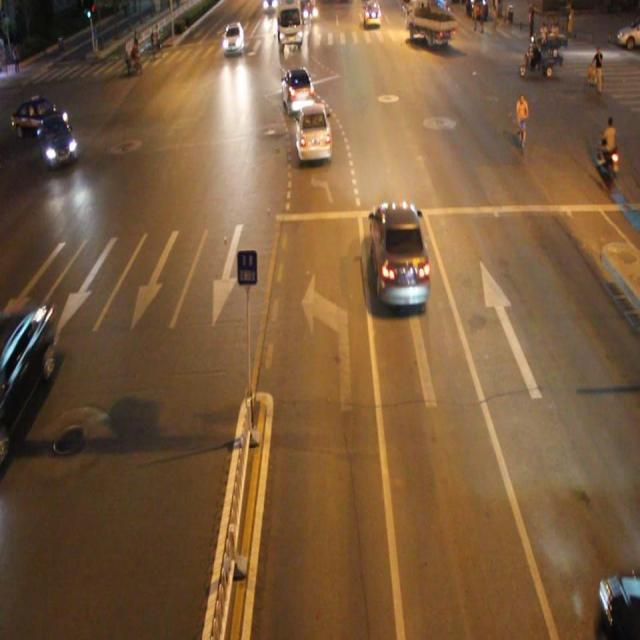car: (0, 302, 54, 442), (372, 199, 428, 307), (296, 100, 335, 163), (38, 111, 77, 166), (281, 63, 317, 116)
